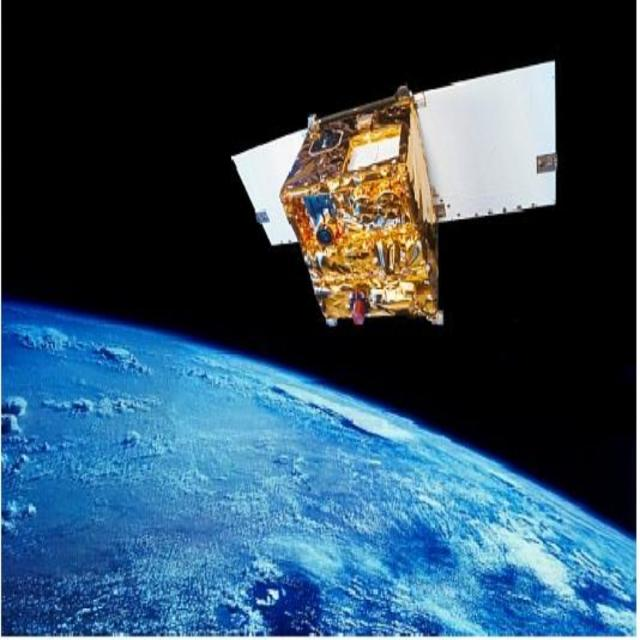satellite: (204, 44, 571, 349)
